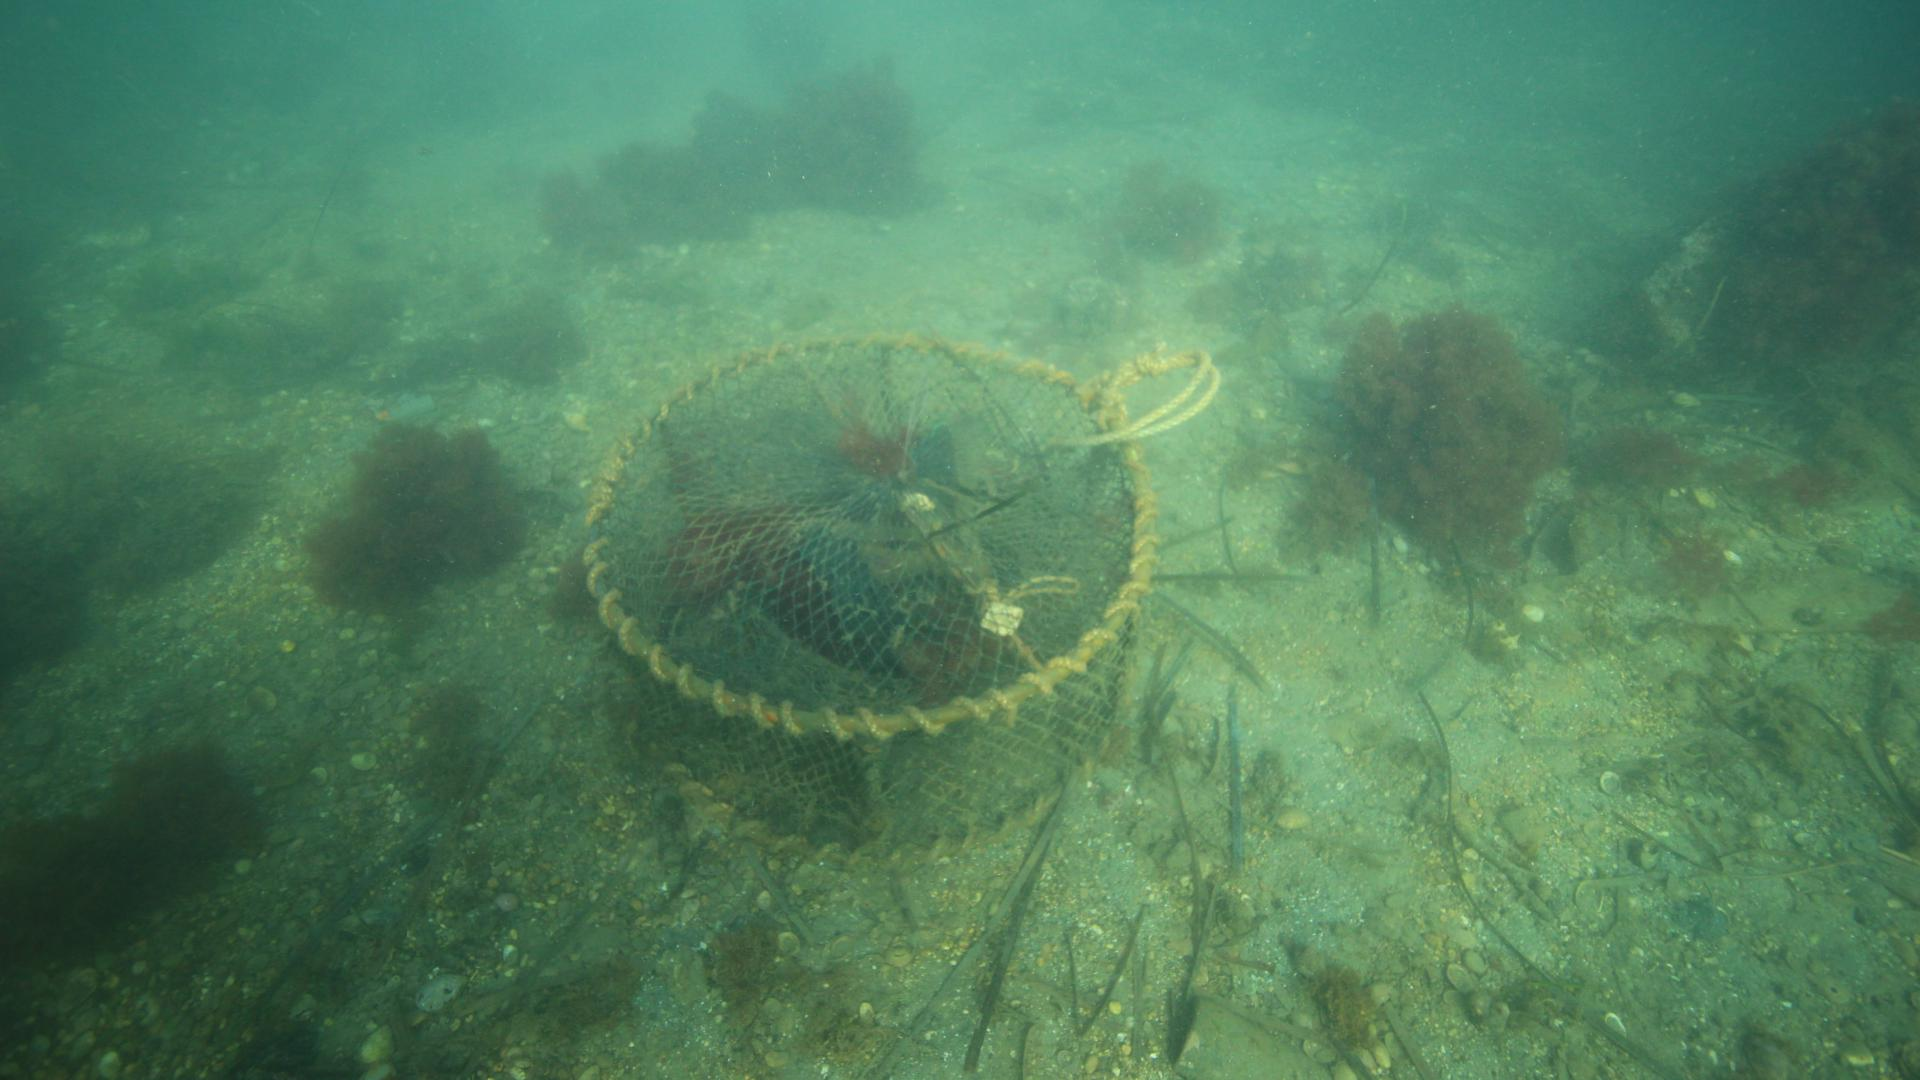bundle of ropes: (1069, 352, 1220, 444)
circular fish trap: (578, 331, 1159, 868)
